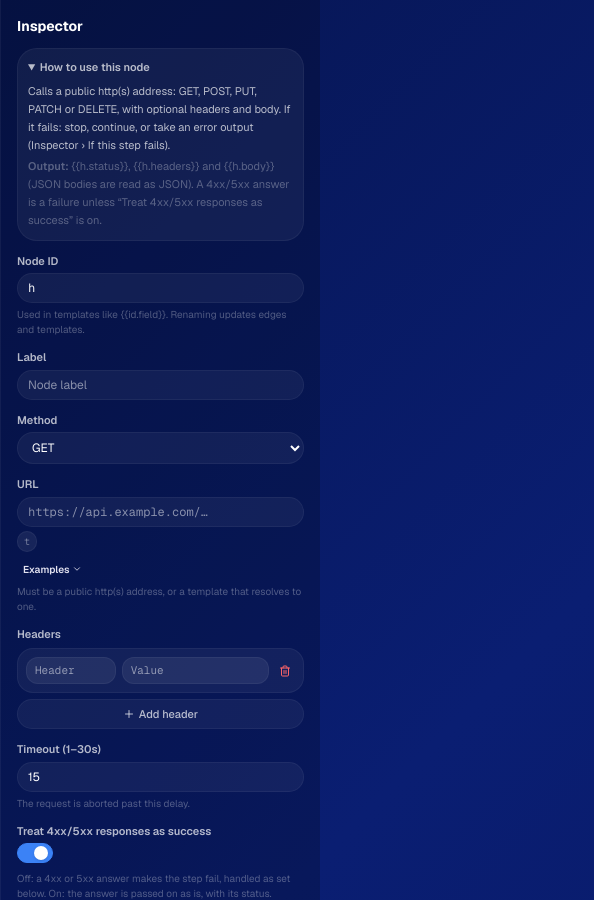
Test: inspector: http node › flags an Authorization header as soon as it's typed
Step 1. Type "Authorization" into the field with placeholder "Header" → (71, 671), box left=26, top=657, right=116, bottom=684
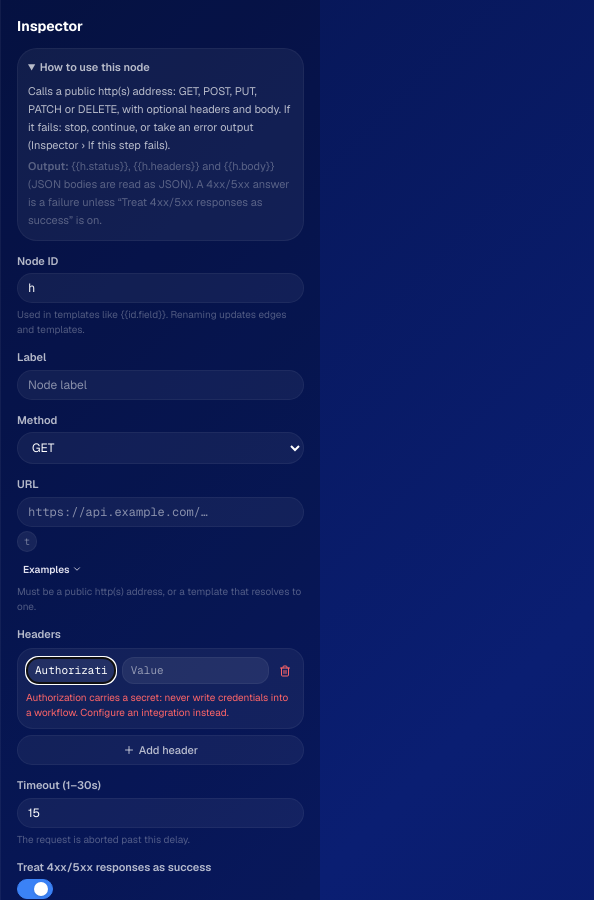
Now the text "carries a secret" is shown, box left=26, top=691, right=288, bottom=719
